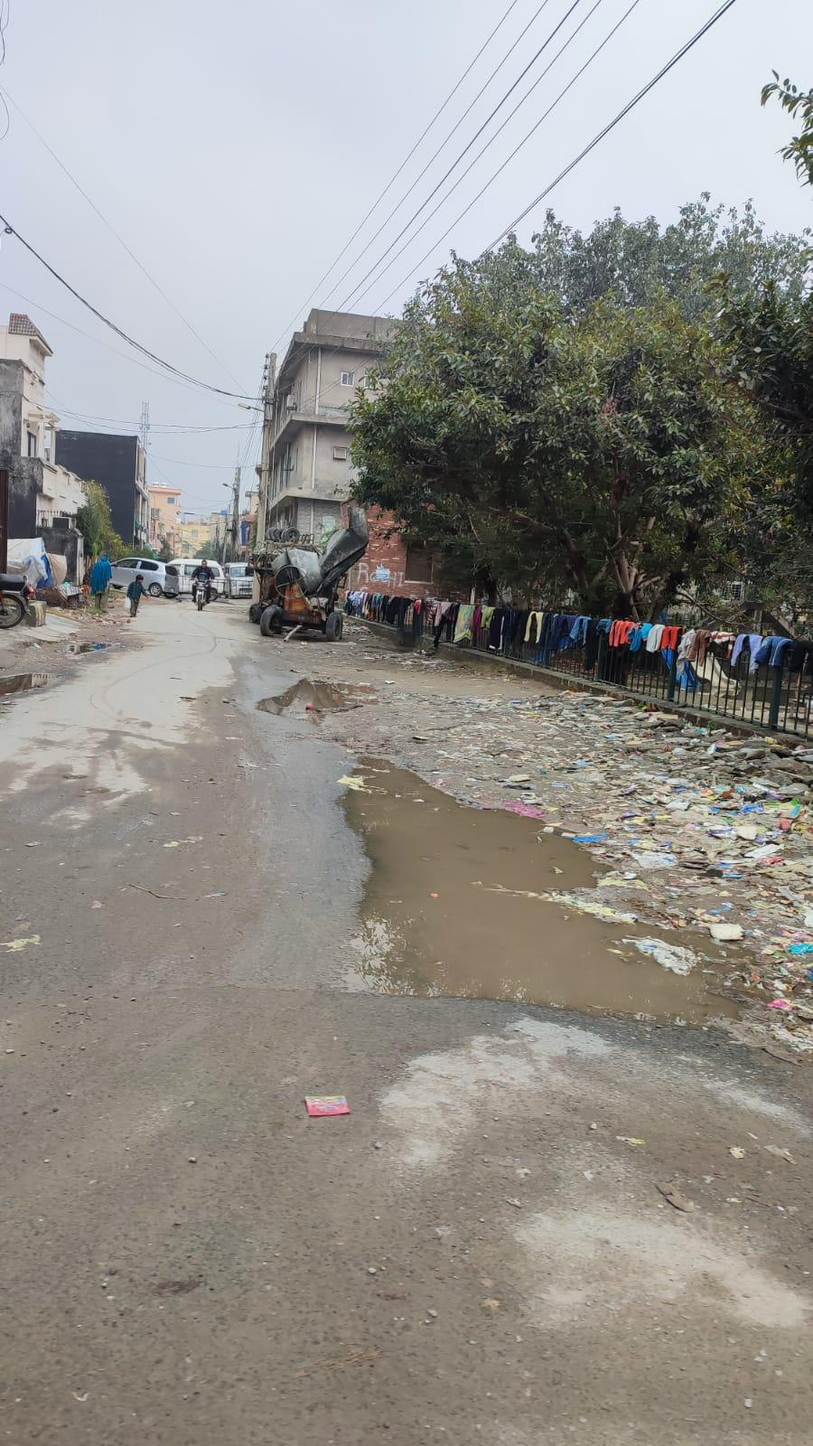garbage: (558, 727, 813, 996)
